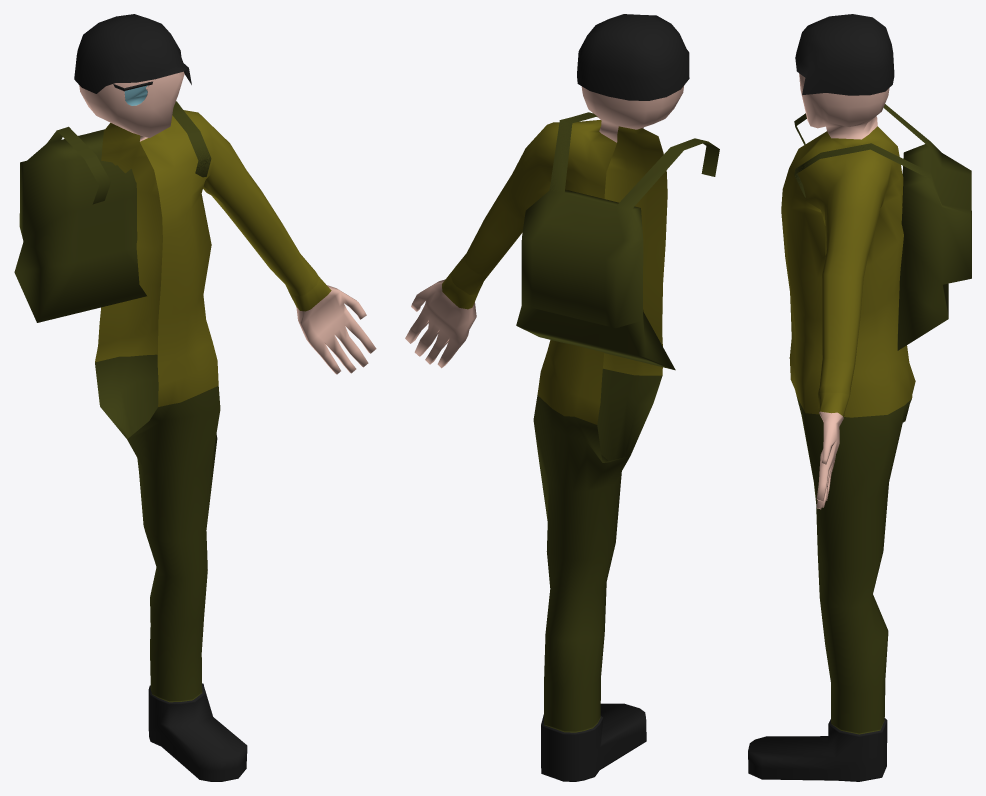
Rendered from Player.glb.
3 renders of one model, left to right at view 1: azimuth 30°, elevation 25°; view 2: azimuth 150°, elevation 25°; view 3: azimuth 270°, elevation 25°, orthographic. The views are drawn at different scales.
Visible parts, largest first — view 1: Body, Bag, Body.001; view 2: Body, Bag, Body.001; view 3: Body, Bag, Body.001.
Boxes of the visible parts, bbox=[...] form: Body: bbox=[74, 14, 376, 781]; Bag: bbox=[14, 101, 211, 322]; Body.001: bbox=[271, 254, 318, 295]; Body: bbox=[405, 14, 689, 781]; Bag: bbox=[516, 112, 719, 370]; Body.001: bbox=[450, 254, 490, 294]; Body: bbox=[748, 14, 915, 781]; Bag: bbox=[794, 104, 971, 350]; Body.001: bbox=[818, 358, 854, 394].
Size of the model in its own units: 2.71 by 6.35 by 1.78.
